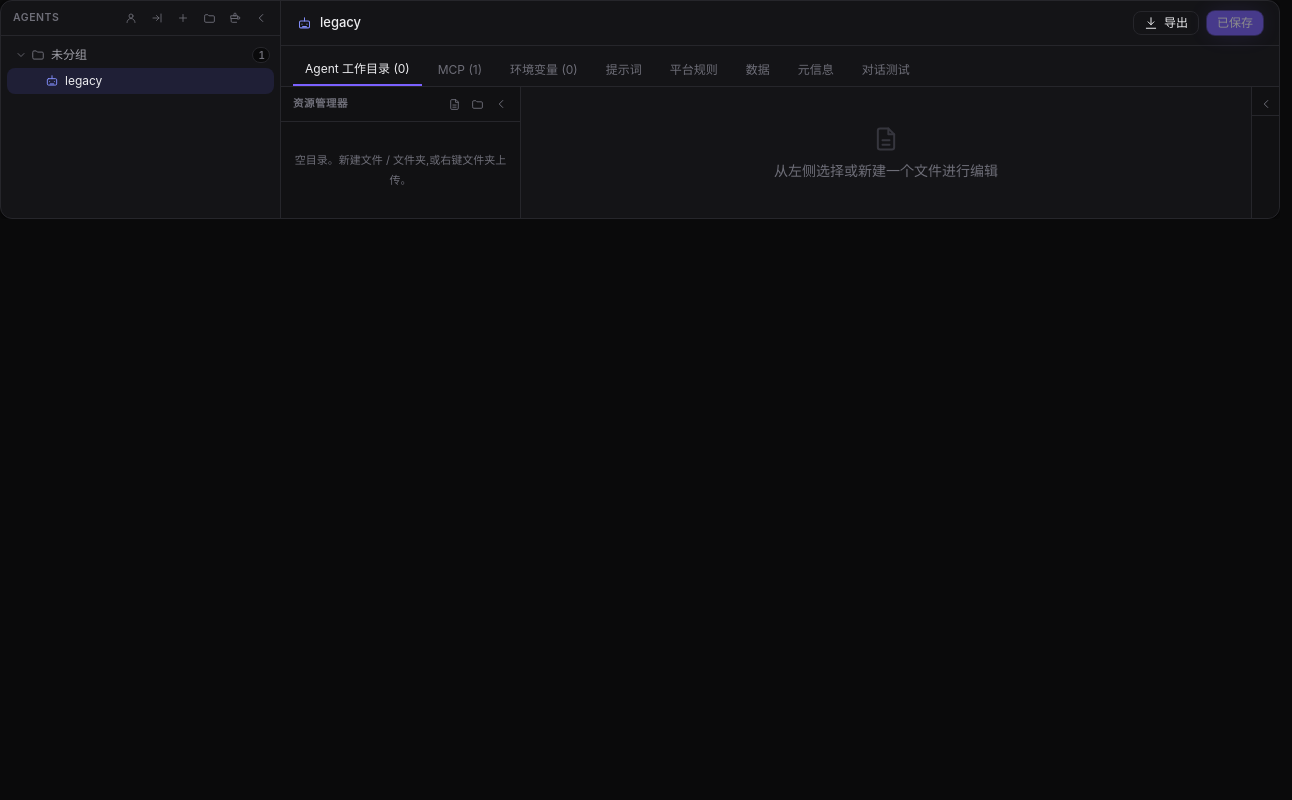
Scenario: AgentStudio MCP PM leader prefills › toasts and keeps a single memory-store when adding again
The width and height of the screenshot is (1292, 800).
Step 1. Click the button "MCP (1)" → coordinates (460, 70), box [426,54,494,86]
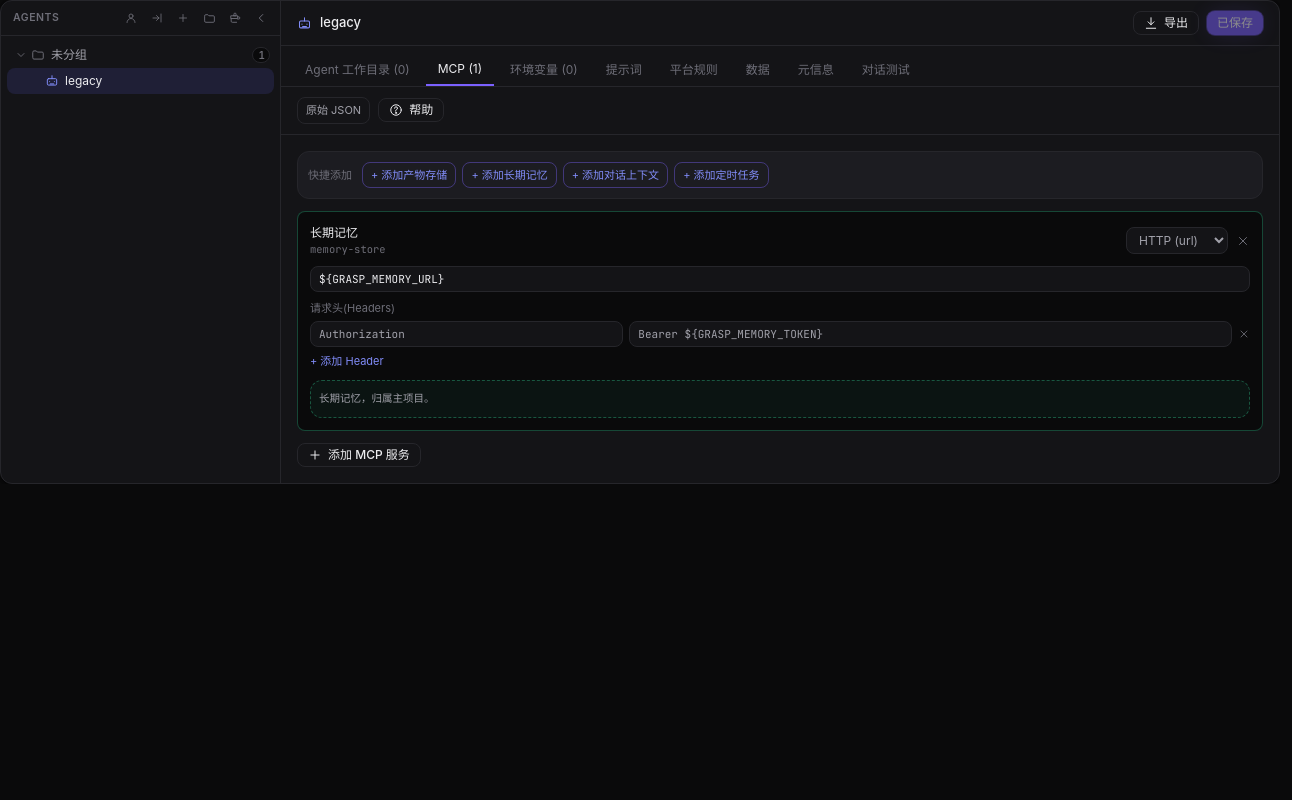
Check: the button with test id "mcp-add-memory" shows "添加长期记忆"
Step 2. Click the button with test id "mcp-add-memory" → coordinates (510, 175), box [462,162,557,188]
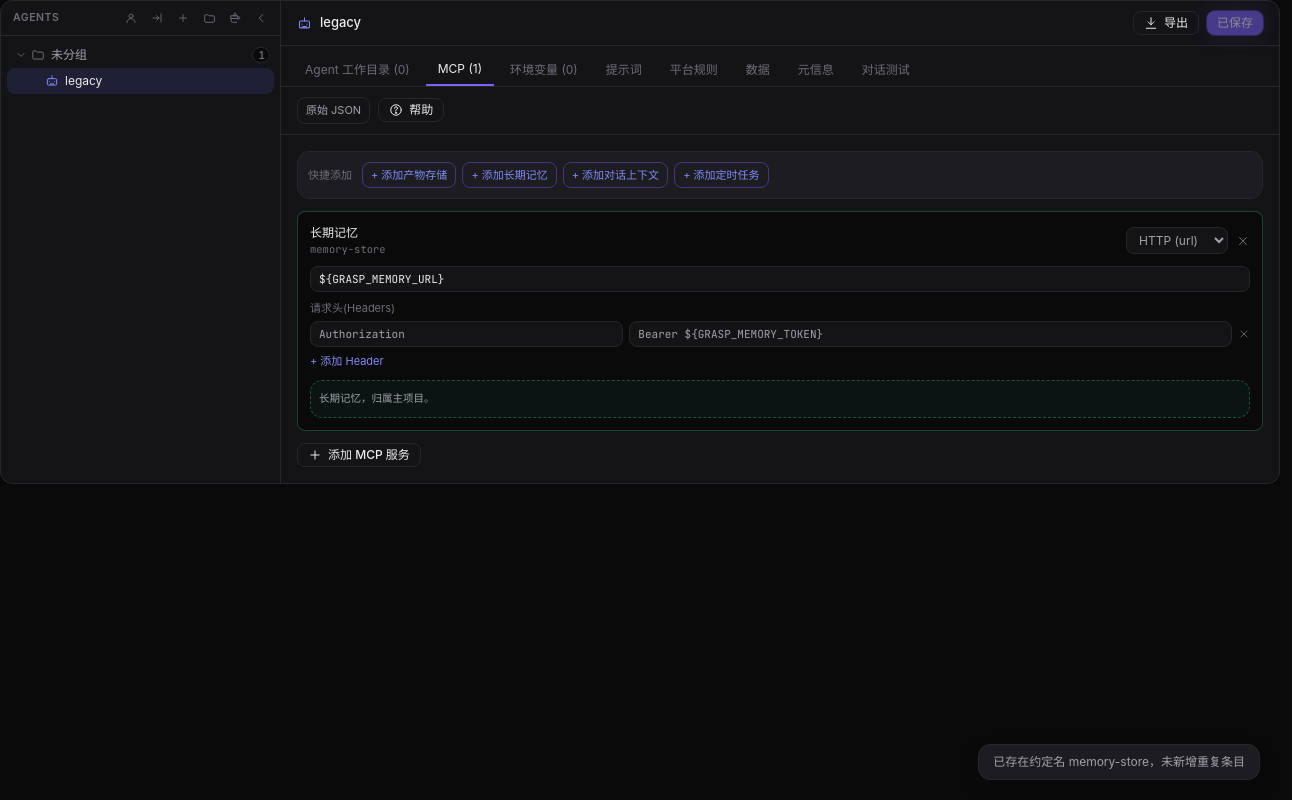
Check: the text "已存在约定名 memory-store" is shown, box [993,754,1245,769]
